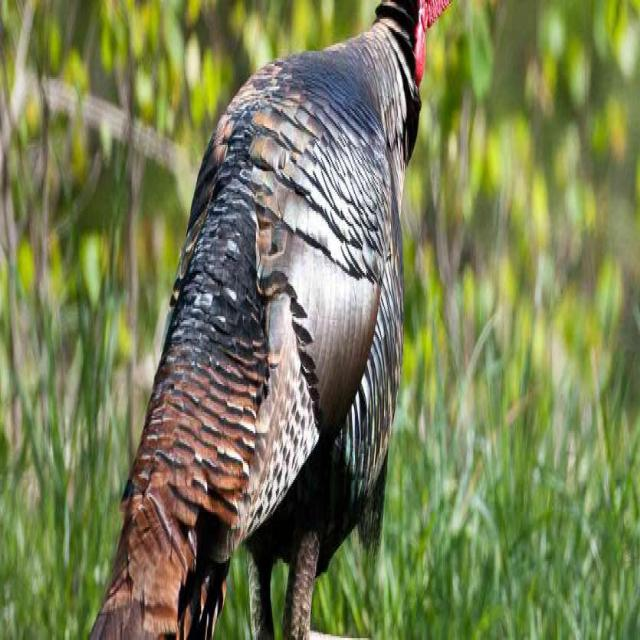Turkey: (86, 0, 464, 640)
